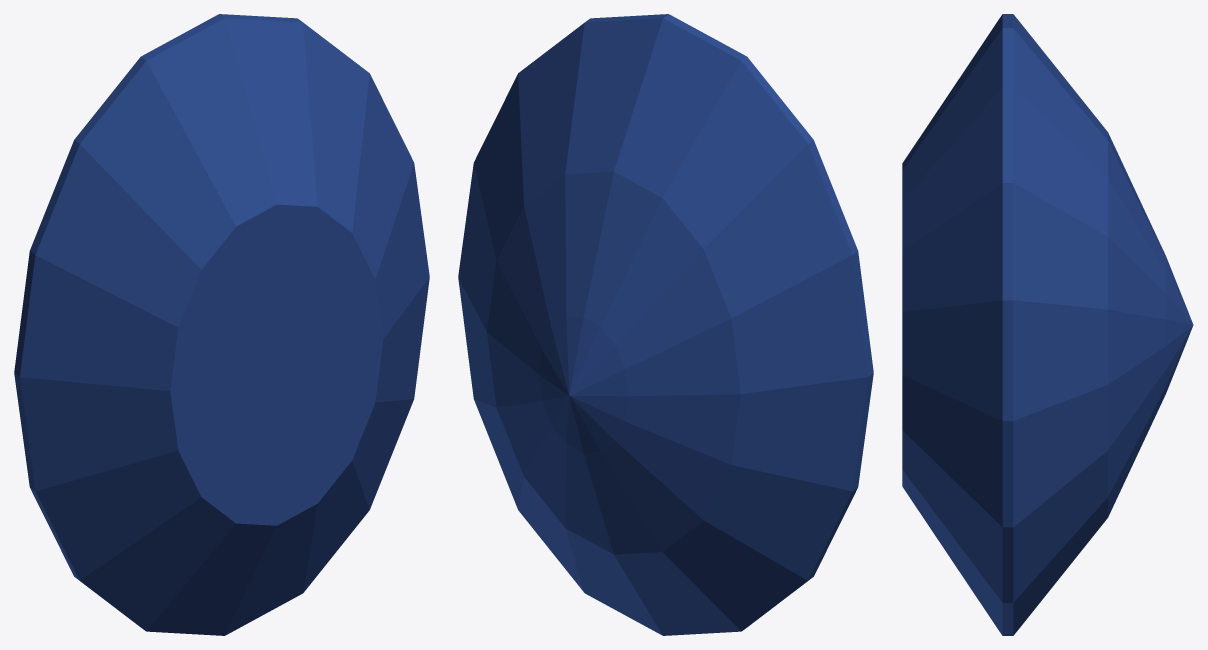
File: sapphire.glb
The picture shows the model from 3 angles, left to right: view 1: azimuth 30°, elevation 25°; view 2: azimuth 150°, elevation 25°; view 3: azimuth 270°, elevation 25°; orthographic projection. The views are drawn at different scales.
Visible parts, largest first — view 1: Small oval sapphire; view 2: Small oval sapphire; view 3: Small oval sapphire.
Part boxes in pixels (bbox=[...]): Small oval sapphire: bbox=[14, 14, 429, 635]; Small oval sapphire: bbox=[458, 14, 873, 635]; Small oval sapphire: bbox=[902, 14, 1193, 635].
Size of the model in its own units: 0.25 by 0.36 by 0.16.
